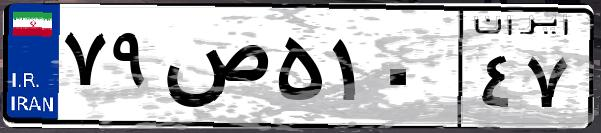0: (385, 28, 445, 110)
1: (330, 28, 385, 110)
4: (475, 38, 525, 113)
5: (270, 28, 330, 110)
7: (57, 26, 110, 100), (525, 38, 570, 115)
9: (110, 28, 158, 98)
ص: (158, 20, 270, 120)
